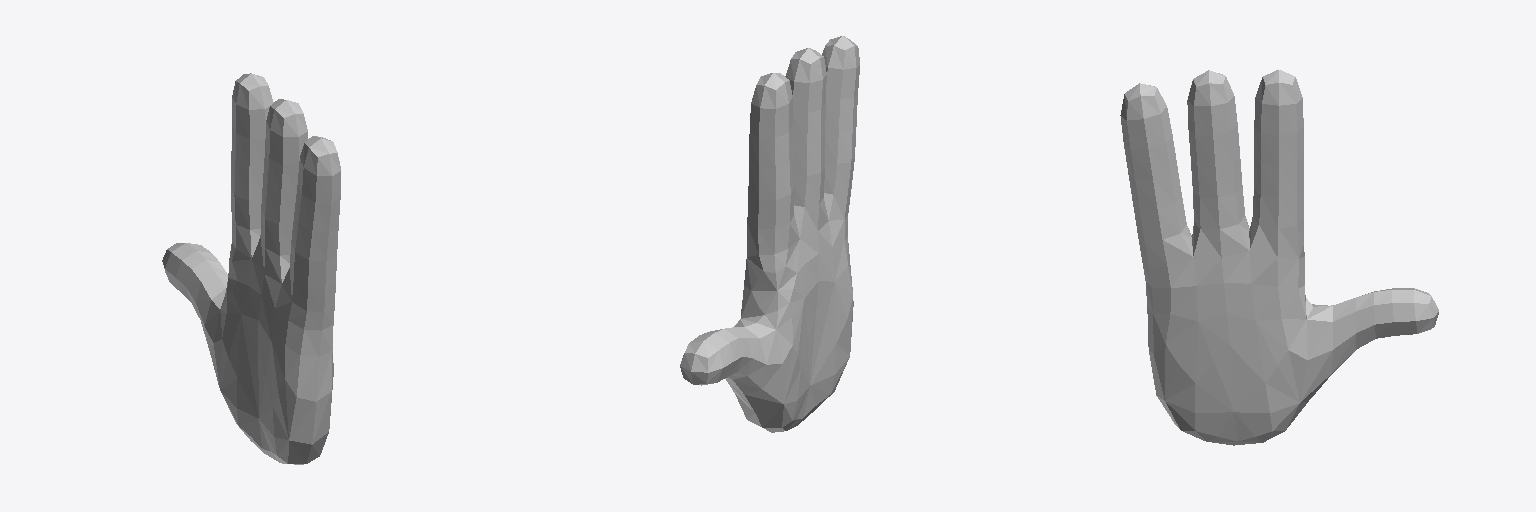
Rendered from Mano.obj.
3 renders of one model, left to right at view 1: azimuth 30°, elevation 25°; view 2: azimuth 150°, elevation 25°; view 3: azimuth 270°, elevation 25°, orthographic.
Visible parts, largest first — view 1: mano_Cube.001; view 2: mano_Cube.001; view 3: mano_Cube.001.
Part boxes in pixels (x1,y1,x2,y2): mano_Cube.001: (162,73,340,464); mano_Cube.001: (680,36,859,432); mano_Cube.001: (1120,70,1438,445).
Bounding box in the file's own units: 0.1234 × 0.7428 × 0.5829.